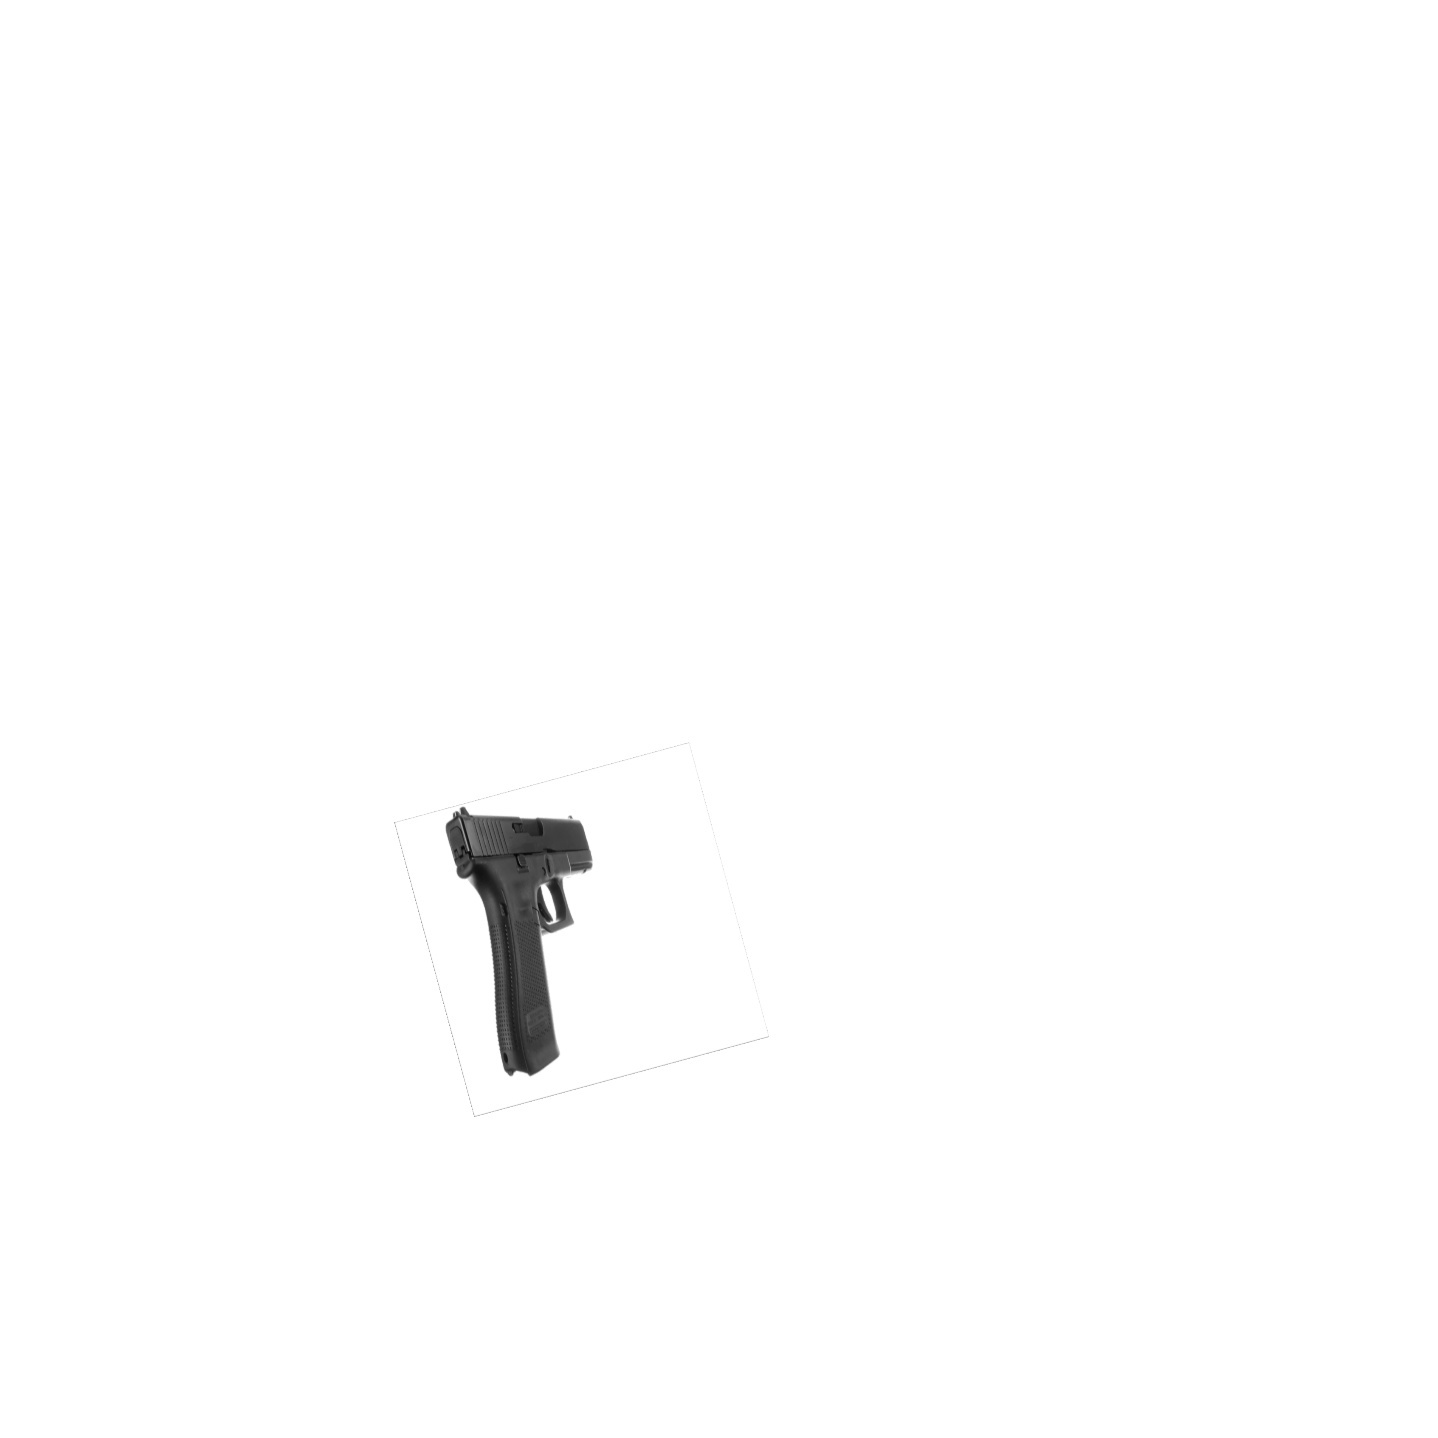gun: (437, 803, 597, 1078)
